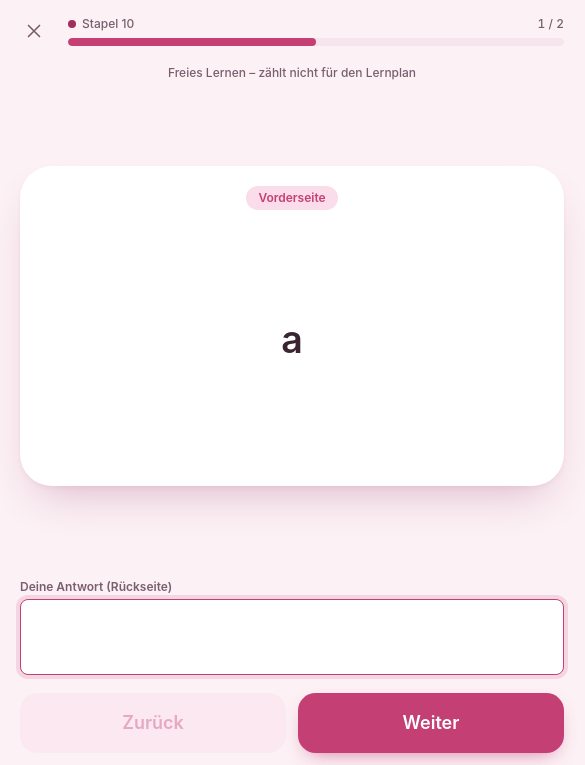
Test: Study session › free practice changes neither schedule nor statistics
Click the button with test id "flashcard".
click(292, 326)  # box [20,166,564,486]
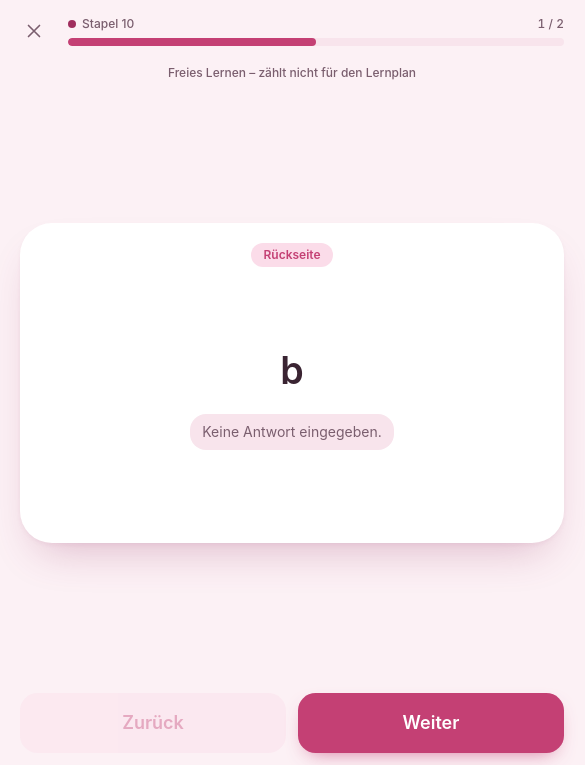
Expected: the text "Freies Lernen – zählt nicht für den Lernplan" is shown, [168,65,416,80]
Click the button "Weiter".
click(431, 723)  # box [298,693,564,753]
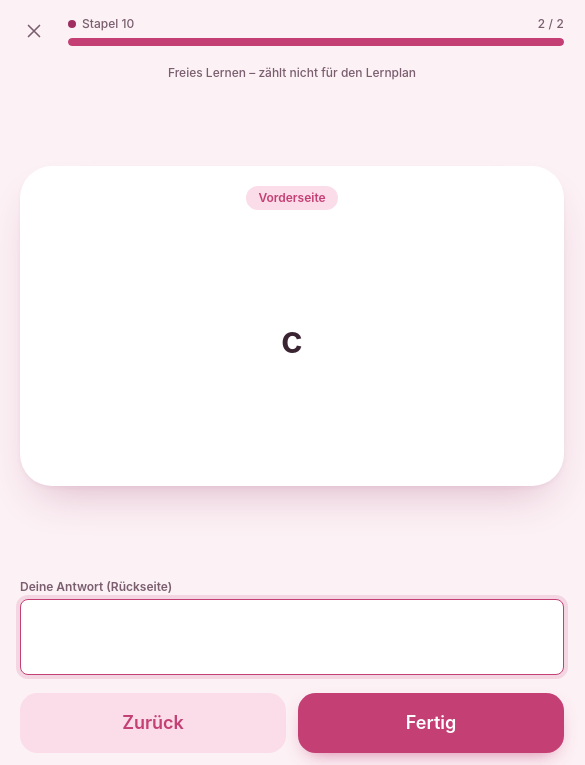
Result: the text with test id "progress" reads "2 / 2" at [538,16,564,31]
